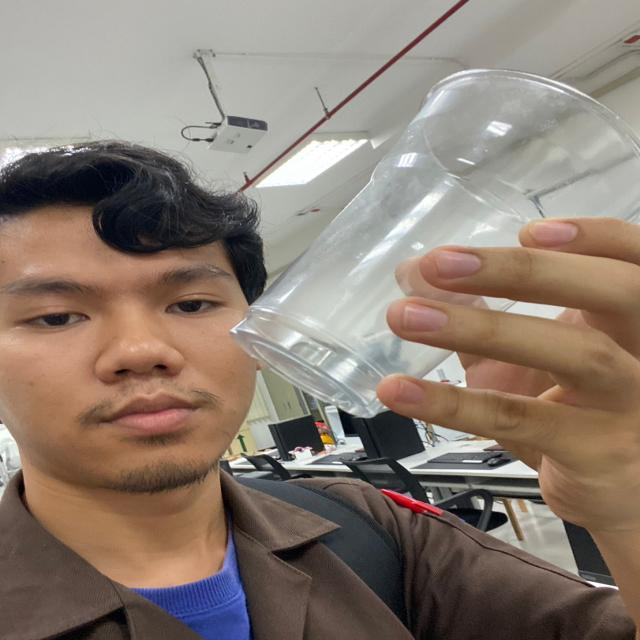glass: (220, 67, 640, 420)
